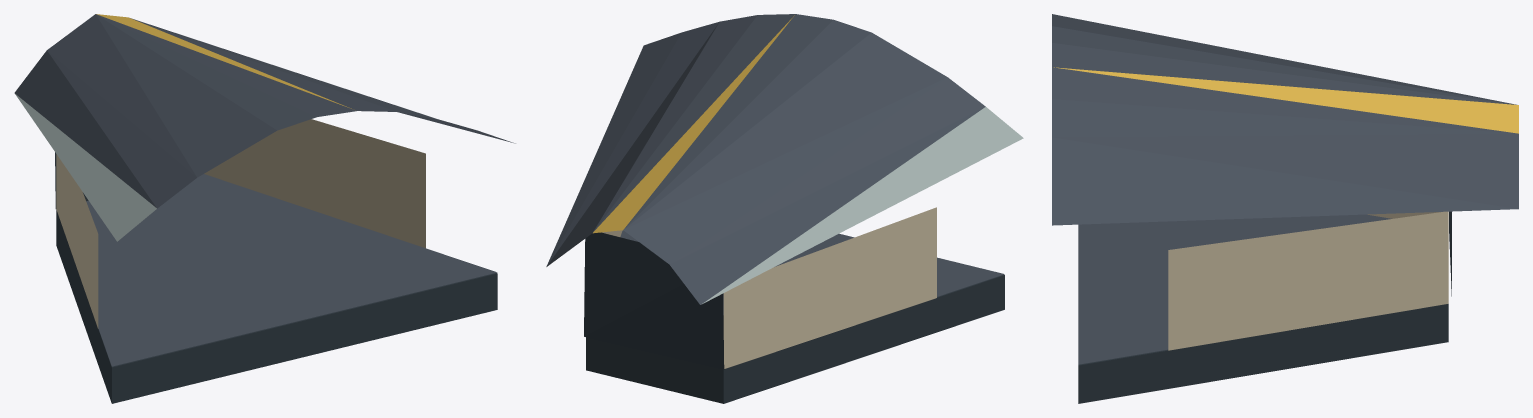
File: vondelpark-open-air-theater.lod2.glb
3 views of the same model, side by side, from view 1: azimuth 30°, elevation 25°; view 2: azimuth 150°, elevation 25°; view 3: azimuth 270°, elevation 25° (orthographic). The views are drawn at different scales.
Parts seen in each view (by area): view 1: lod2; view 2: lod2; view 3: lod2.
Boxes of the visible parts, x1,y1,x2,y2 form: lod2: (14, 14, 515, 403); lod2: (546, 14, 1023, 403); lod2: (1052, 14, 1518, 403).
Size of the model in its own units: 13.8 by 8.2 by 13.24.
